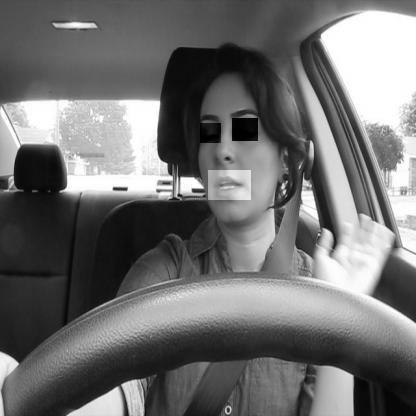seatbelt: (180, 42, 306, 416)
